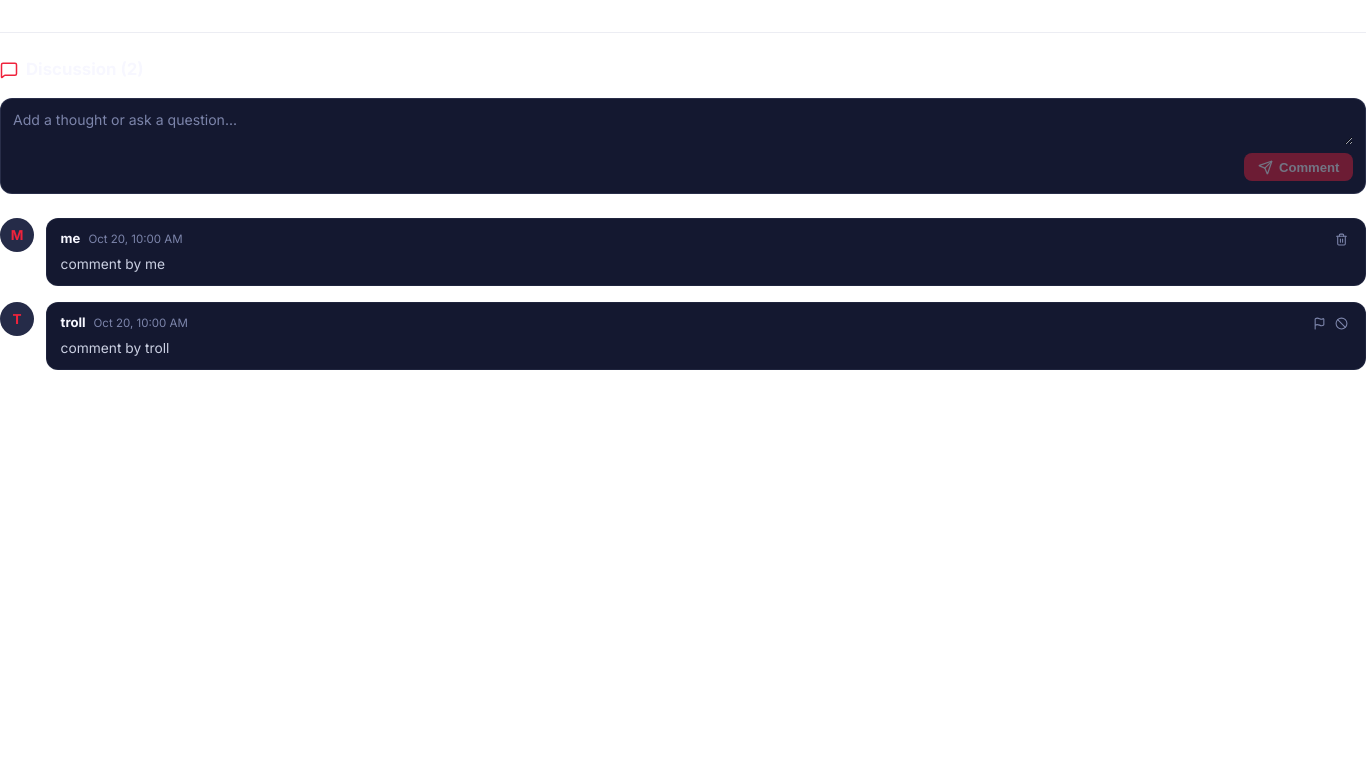
it: ArticleCommentThread moderation › reports a comment with a reason and details
Click the button with test id "report-comment-c-other" at (1320, 323), box [1310,314,1330,333]
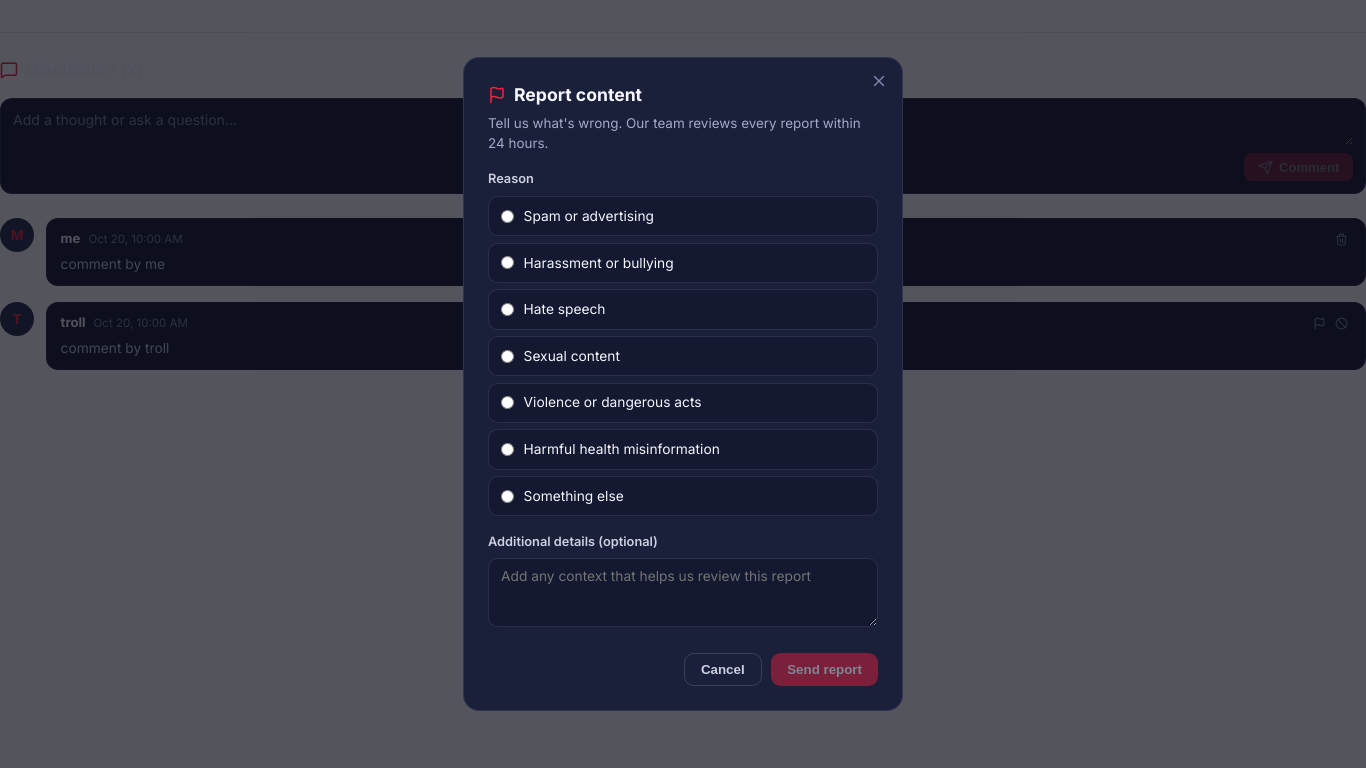
Check: the button with test id "report-submit-btn" is disabled, box [771,653,878,686]
Click the radio button with test id "report-reason-HARASSMENT" at (508, 263), box [501,256,514,269]
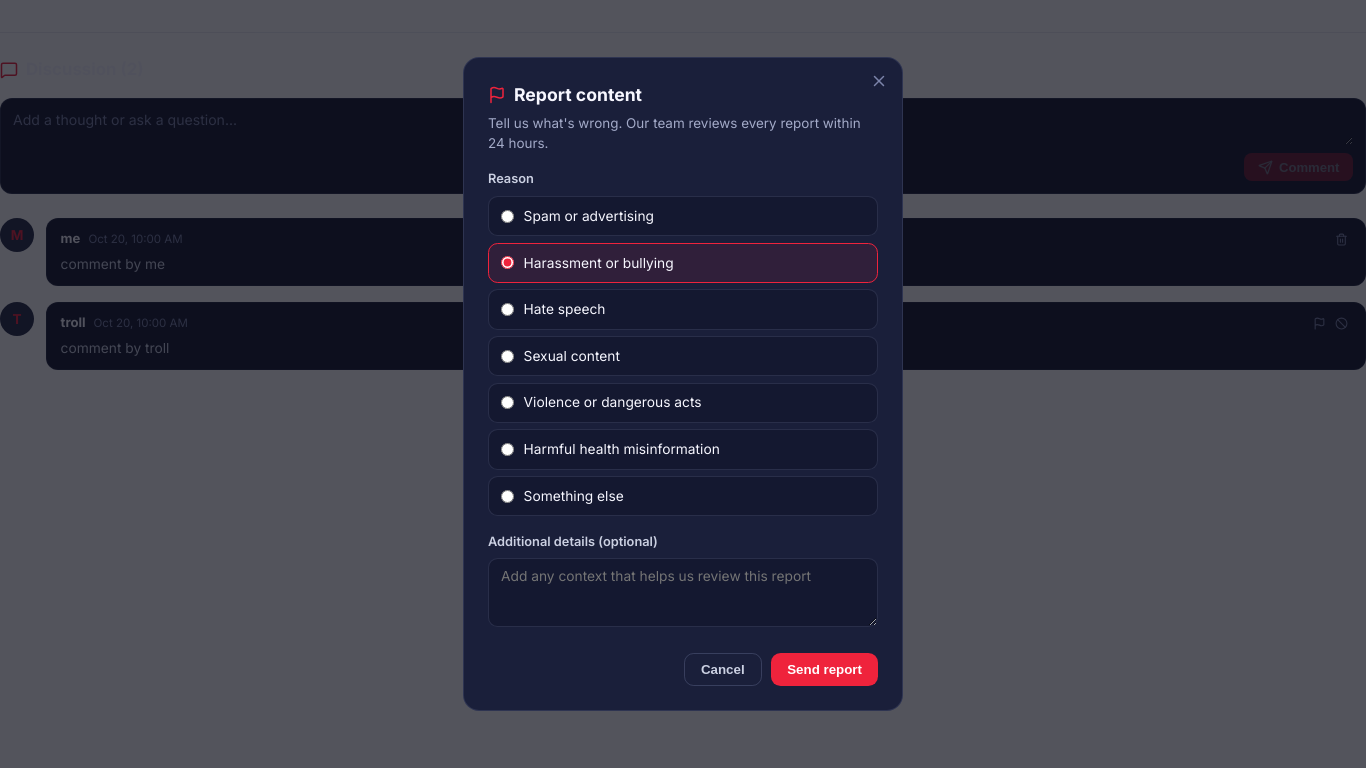
Type "Insults" into the text box with test id "report-details-input" at (683, 592), box [488,558,878,627]
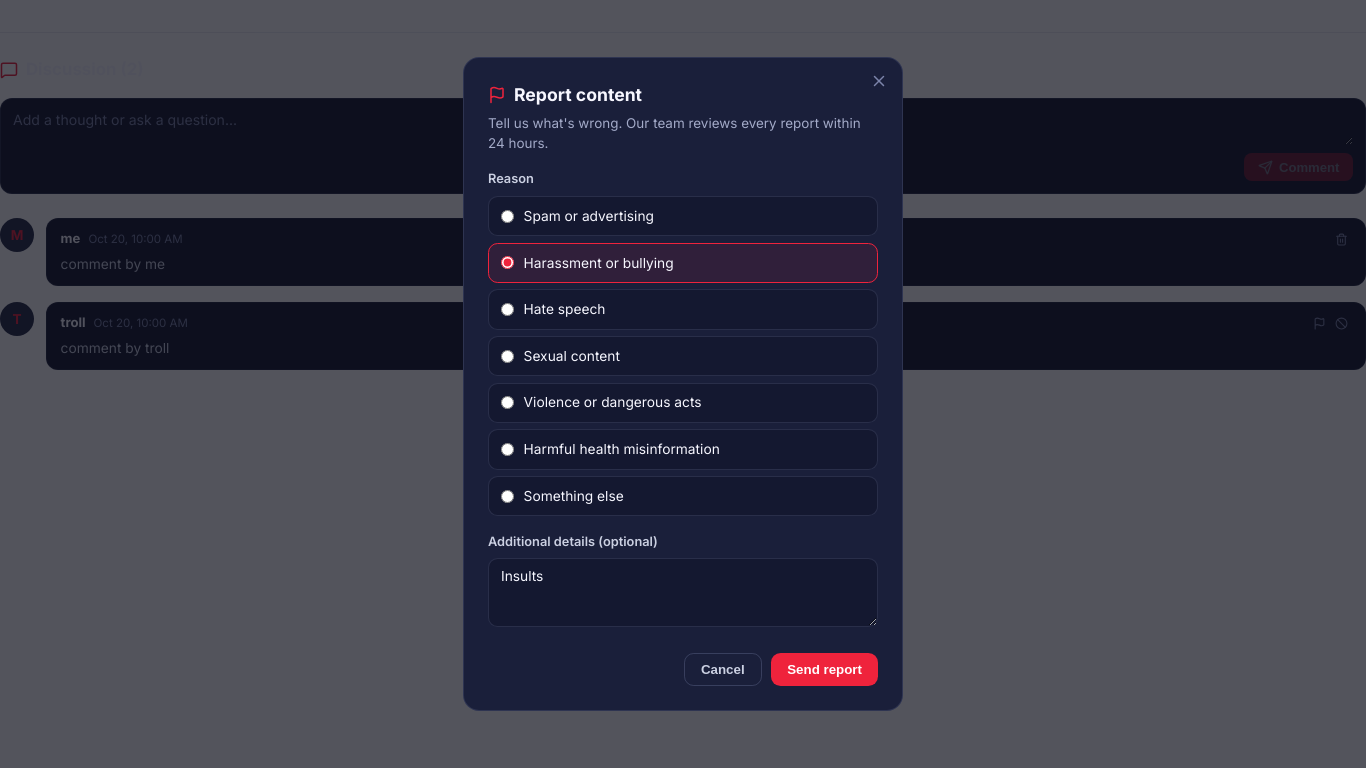
Click the button with test id "report-submit-btn" at (825, 669), box [771,653,878,686]
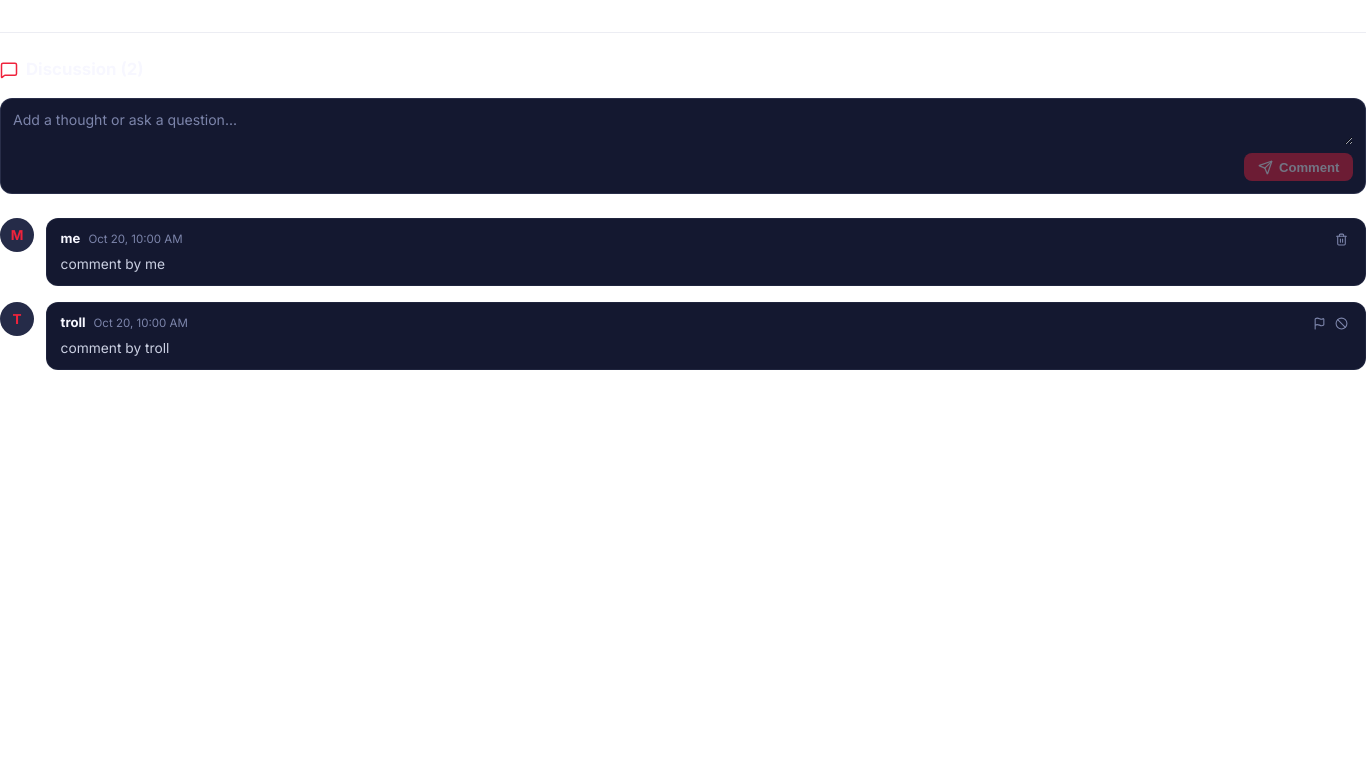
Check: the dialog with test id "report-dialog" is gone
